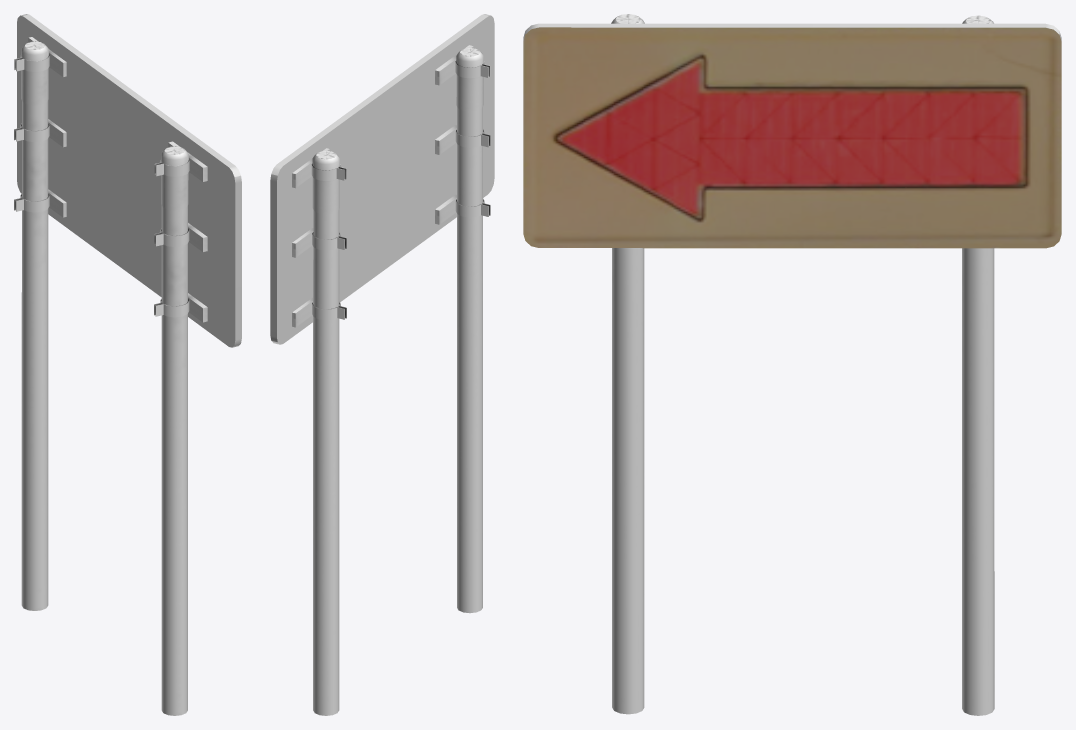
File: Preset_ArrowSignA_L.fbx
The picture shows the model from 3 angles, left to right: view 1: azimuth 30°, elevation 25°; view 2: azimuth 150°, elevation 25°; view 3: azimuth 270°, elevation 25°; orthographic projection. The views are drawn at different scales.
Visible parts, largest first — view 1: ArrowSignA_Plate, PoleB, PoleA; view 2: ArrowSignA_Plate, PoleB, PoleA; view 3: ArrowSignA_Plate, PoleA, PoleB.
Part boxes in pixels (x1,y1,x2,y2): ArrowSignA_Plate: [17, 14, 241, 347]; PoleB: [14, 37, 66, 610]; PoleA: [154, 141, 207, 715]; ArrowSignA_Plate: [270, 14, 494, 344]; PoleB: [292, 148, 346, 715]; PoleA: [435, 45, 490, 613]; ArrowSignA_Plate: [523, 23, 1061, 248]; PoleA: [611, 14, 644, 714]; PoleB: [962, 15, 994, 715].
Bounding box in the file's own units: 15.94 × 135 × 192.
Materials: 2 (2 with a texture image).
